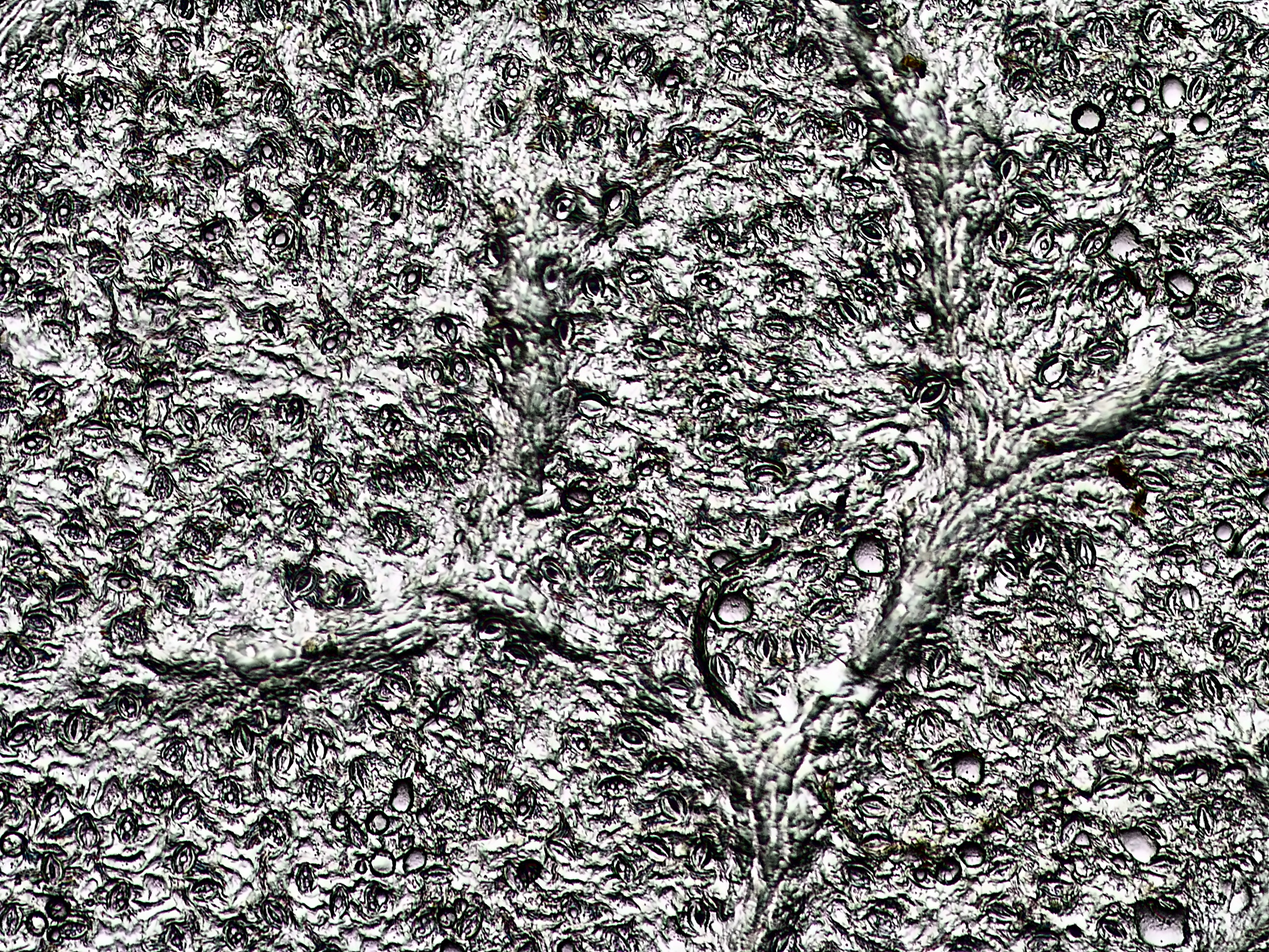stomata: (795, 506, 830, 540), (745, 456, 786, 485), (256, 132, 286, 170), (1012, 275, 1047, 307), (1210, 624, 1242, 657), (918, 375, 949, 409), (795, 553, 830, 583), (1164, 267, 1197, 298), (621, 633, 655, 663), (114, 184, 141, 221), (26, 374, 58, 405), (5, 637, 35, 670), (398, 24, 426, 59), (230, 724, 258, 759), (918, 710, 946, 745), (512, 784, 537, 823), (701, 426, 740, 451), (1082, 223, 1109, 259), (196, 74, 222, 111), (573, 391, 610, 417), (90, 248, 121, 279), (53, 189, 77, 229), (259, 813, 289, 845), (233, 43, 262, 76), (8, 157, 36, 191), (173, 790, 201, 824), (266, 80, 293, 115), (337, 577, 364, 612), (218, 776, 244, 812), (795, 39, 821, 75), (661, 791, 690, 823), (1058, 47, 1083, 84), (810, 596, 847, 621), (993, 216, 1016, 256), (220, 487, 254, 514), (604, 186, 631, 220), (1142, 8, 1169, 42), (599, 771, 634, 797), (203, 153, 228, 189), (343, 128, 368, 164), (269, 219, 294, 255), (115, 691, 145, 721), (182, 522, 211, 553), (624, 43, 653, 74), (1015, 522, 1046, 551), (323, 25, 355, 53), (61, 712, 89, 744), (347, 758, 375, 790), (264, 897, 291, 930), (375, 59, 399, 96), (18, 429, 52, 455), (114, 614, 148, 640), (540, 123, 566, 157), (1228, 138, 1263, 163), (692, 389, 730, 412), (104, 335, 133, 365), (174, 407, 203, 437), (1007, 66, 1037, 95), (398, 259, 422, 295), (379, 673, 411, 700), (545, 838, 577, 865), (221, 919, 247, 952), (303, 183, 328, 217), (201, 216, 231, 244), (149, 466, 173, 501), (173, 841, 197, 876), (689, 895, 710, 935), (1033, 725, 1061, 755), (1197, 672, 1225, 702), (290, 567, 317, 598), (1197, 301, 1228, 328), (91, 77, 117, 109), (1098, 271, 1124, 303), (843, 863, 875, 889), (148, 245, 171, 281), (142, 289, 178, 312), (140, 429, 176, 452), (178, 457, 214, 480), (476, 617, 509, 642), (105, 528, 139, 552), (1046, 151, 1070, 185), (856, 797, 893, 819), (1096, 773, 1133, 795), (146, 373, 177, 399), (278, 395, 304, 426), (1029, 224, 1052, 259), (695, 270, 727, 295), (1010, 24, 1042, 49), (755, 625, 776, 663), (303, 774, 325, 810), (842, 174, 875, 198), (714, 650, 736, 686), (1138, 468, 1174, 490), (309, 459, 337, 487), (540, 557, 568, 585), (898, 250, 926, 278), (543, 29, 570, 58), (869, 143, 898, 170), (563, 485, 592, 512), (988, 712, 1015, 741), (361, 178, 384, 212), (229, 406, 252, 440), (475, 804, 498, 838), (851, 279, 881, 305), (1216, 94, 1246, 120), (1037, 357, 1067, 383), (1107, 734, 1137, 760), (4, 198, 25, 235), (322, 324, 347, 355), (162, 590, 193, 615), (362, 705, 393, 730), (49, 99, 72, 132), (58, 521, 91, 544), (23, 613, 56, 636), (107, 879, 130, 912), (576, 113, 602, 142), (1133, 645, 1159, 674), (0, 903, 22, 937), (1159, 693, 1193, 715), (293, 860, 317, 891), (616, 725, 647, 749), (718, 48, 749, 72), (79, 812, 98, 851), (6, 549, 43, 569), (771, 368, 812, 386), (261, 307, 284, 339), (291, 500, 314, 532), (118, 810, 139, 845), (837, 299, 864, 326), (164, 29, 192, 55), (912, 305, 938, 333), (1027, 601, 1055, 627), (266, 466, 288, 499), (307, 730, 329, 763), (703, 219, 725, 252), (124, 146, 154, 170), (192, 260, 216, 290), (803, 115, 827, 145), (919, 795, 949, 819), (792, 629, 813, 663), (1086, 694, 1120, 715), (327, 88, 350, 119), (64, 463, 95, 486), (641, 839, 672, 862), (622, 260, 653, 283), (775, 276, 806, 299), (1212, 12, 1235, 43), (1167, 503, 1198, 526), (0, 830, 26, 857), (165, 925, 191, 952), (438, 690, 464, 717), (859, 217, 886, 243), (12, 44, 37, 72), (162, 737, 187, 765), (1146, 148, 1174, 173), (765, 316, 794, 340), (770, 928, 799, 952), (692, 837, 713, 870), (671, 128, 692, 161), (1073, 535, 1094, 568), (192, 879, 222, 902), (843, 112, 866, 142), (620, 504, 650, 527), (1239, 589, 1269, 612), (475, 425, 497, 456), (732, 141, 763, 163), (106, 572, 140, 592), (113, 397, 139, 423), (566, 727, 592, 753), (755, 220, 780, 247), (878, 745, 903, 772), (81, 417, 113, 438), (329, 886, 350, 918), (552, 190, 576, 218), (998, 153, 1022, 181), (1181, 584, 1205, 612), (144, 87, 167, 116), (626, 120, 649, 149), (1093, 133, 1116, 162), (273, 743, 295, 773), (1092, 17, 1114, 47), (57, 919, 88, 940), (614, 852, 635, 883), (928, 645, 949, 676), (1196, 806, 1217, 837), (243, 189, 269, 214), (1236, 442, 1263, 466), (143, 780, 166, 808), (590, 43, 613, 71), (1214, 275, 1242, 298), (1033, 669, 1061, 692), (42, 854, 62, 886), (1086, 344, 1118, 364), (43, 319, 72, 341), (6, 724, 35, 746), (381, 406, 402, 436), (53, 581, 83, 602), (779, 152, 809, 173), (1204, 456, 1234, 477), (448, 435, 473, 460), (382, 316, 408, 340), (421, 359, 445, 385), (1014, 191, 1040, 215), (1196, 200, 1223, 223), (305, 139, 325, 170), (542, 84, 562, 115), (636, 340, 667, 360), (861, 833, 892, 853), (645, 756, 673, 778), (857, 7, 885, 29), (401, 99, 422, 128), (503, 644, 532, 665), (784, 202, 805, 231), (568, 524, 597, 545), (1210, 499, 1242, 518), (491, 99, 511, 129), (771, 14, 794, 40), (1005, 673, 1028, 699), (1077, 641, 1100, 667), (452, 354, 470, 387), (754, 95, 776, 122), (584, 269, 603, 300), (1252, 29, 1269, 63), (112, 40, 135, 65), (625, 547, 650, 570), (27, 910, 48, 937), (426, 865, 455, 884), (435, 317, 457, 342), (1164, 239, 1189, 261), (1135, 66, 1156, 92), (1039, 561, 1065, 582), (1083, 155, 1103, 182), (1188, 74, 1207, 102), (959, 844, 987, 863), (402, 460, 424, 484), (666, 676, 691, 697), (993, 557, 1019, 577), (3, 578, 30, 597), (837, 571, 864, 590), (504, 56, 522, 84), (1165, 590, 1183, 618), (258, 0, 280, 22), (558, 317, 574, 347), (172, 2, 198, 19)
